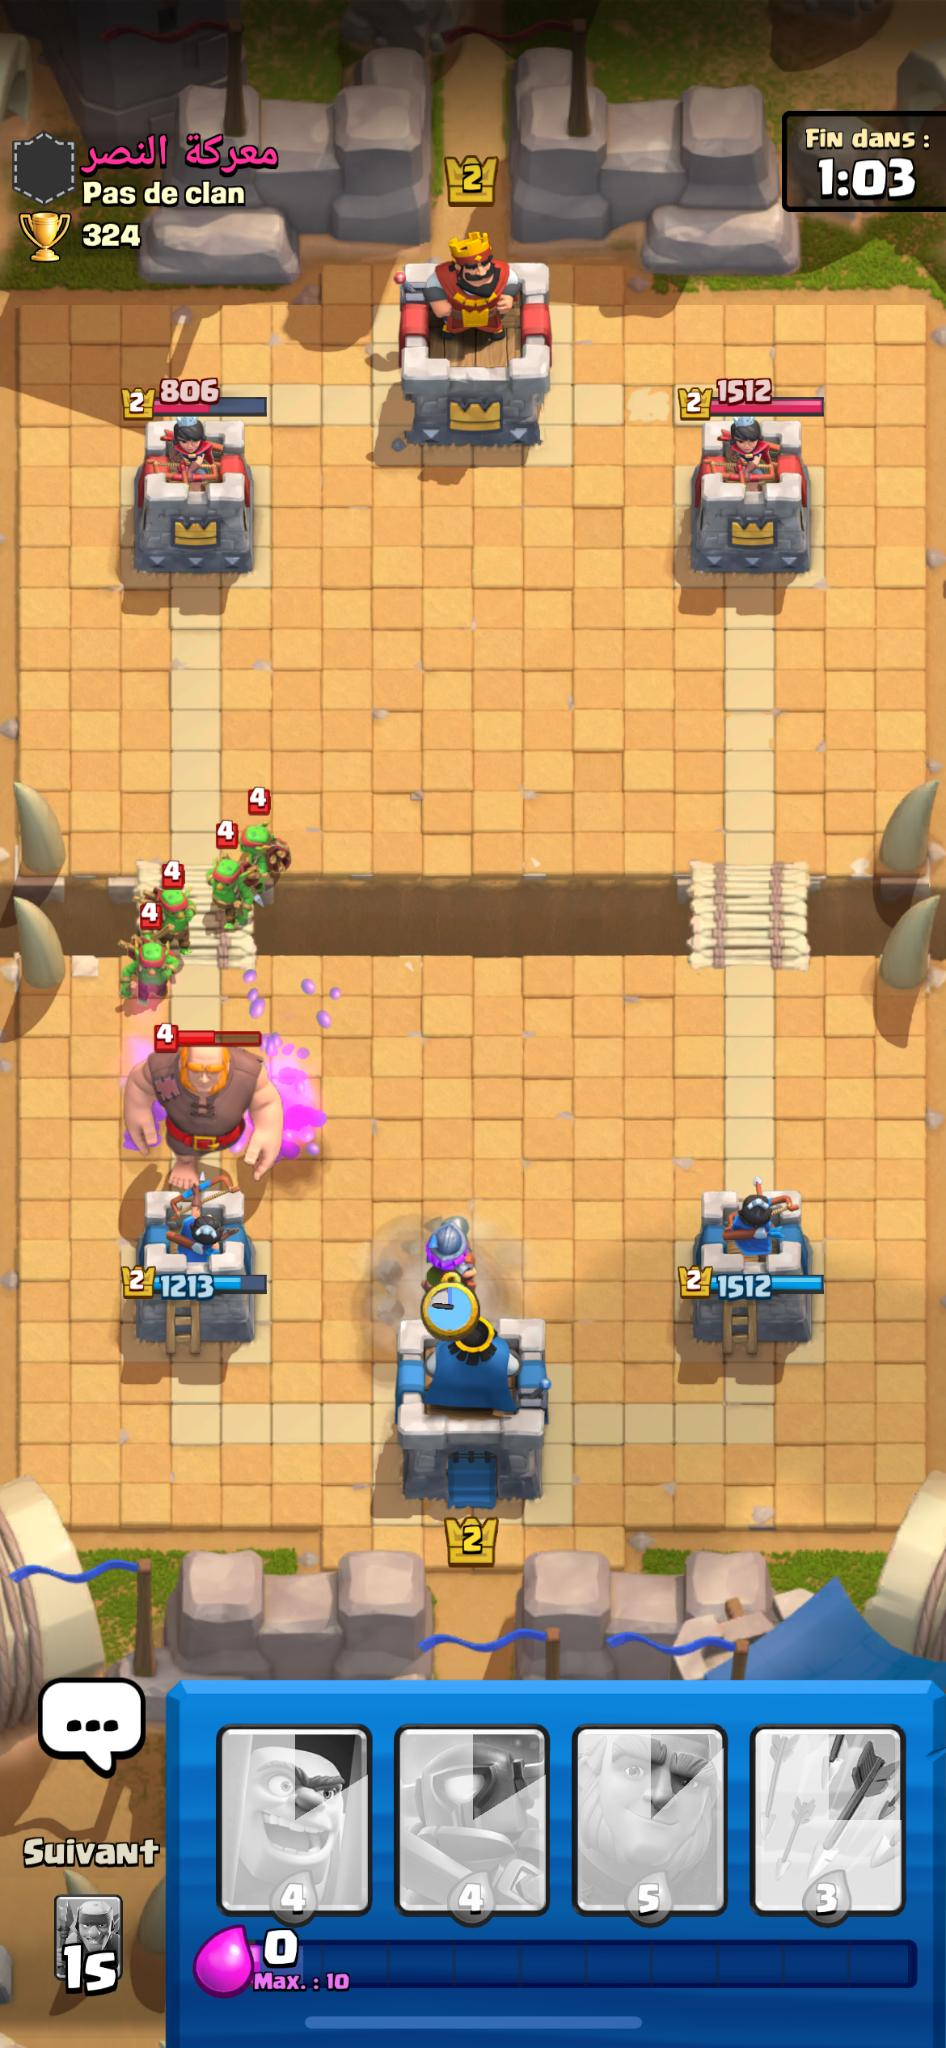geant: (110, 1024, 294, 1195)
gobelin_lances: (76, 793, 332, 1020)
mousquetaire: (401, 1200, 504, 1324)
